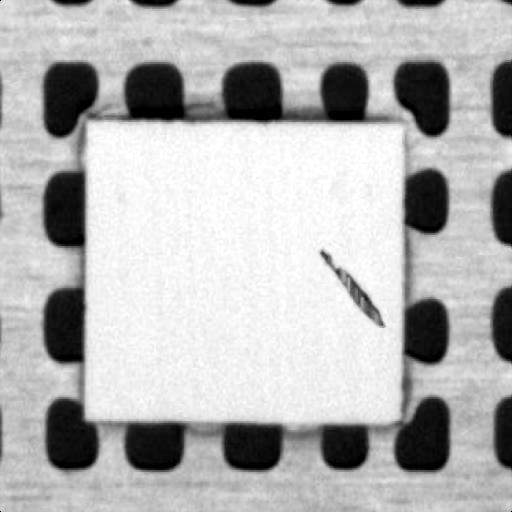DIE_INK: (412, 177, 512, 251)
